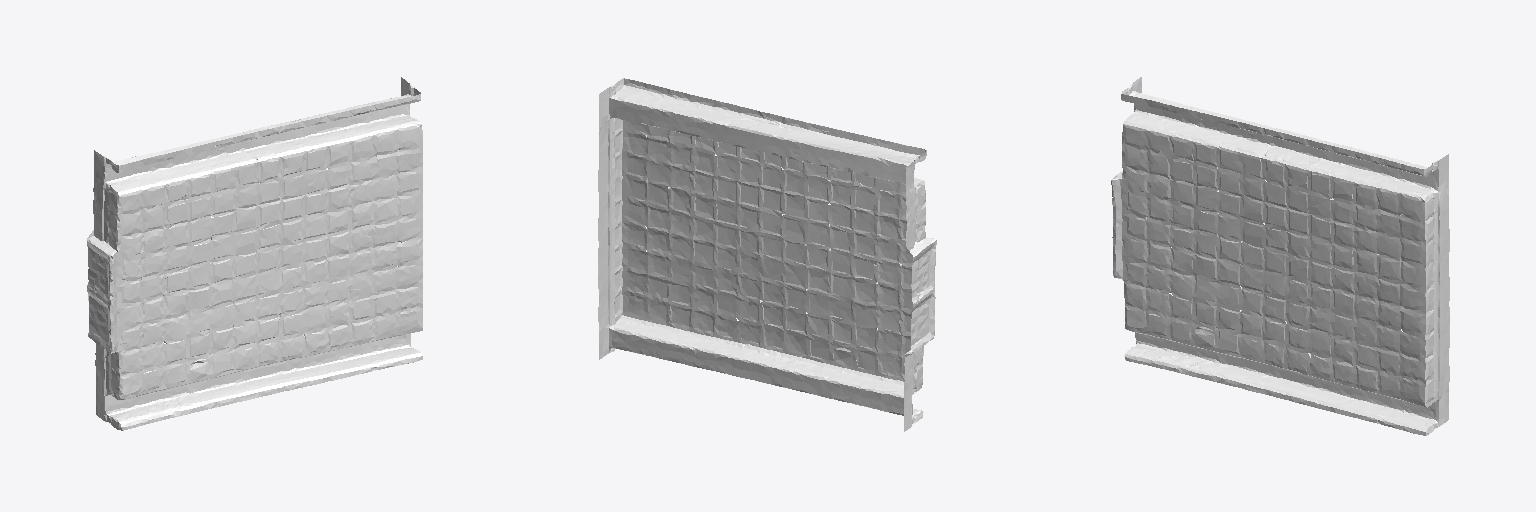
The model's file is Techo_Birds.obj.
3 renders of one model, left to right at view 1: azimuth 30°, elevation 25°; view 2: azimuth 150°, elevation 25°; view 3: azimuth 330°, elevation 25°, orthographic.
Visible parts, largest first — view 1: default; view 2: default; view 3: default.
Part boxes in pixels (x1,y1,x2,y2): default: (87,77,422,430); default: (598,78,936,431); default: (1111,77,1449,435).
Bounding box in the file's own units: 2.36 × 1.92 × 0.3118.